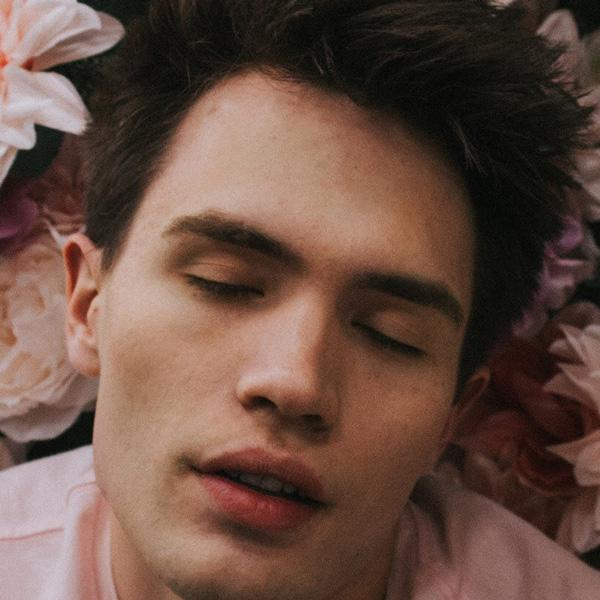Eyes: (339, 301, 445, 371), (166, 245, 275, 310)
